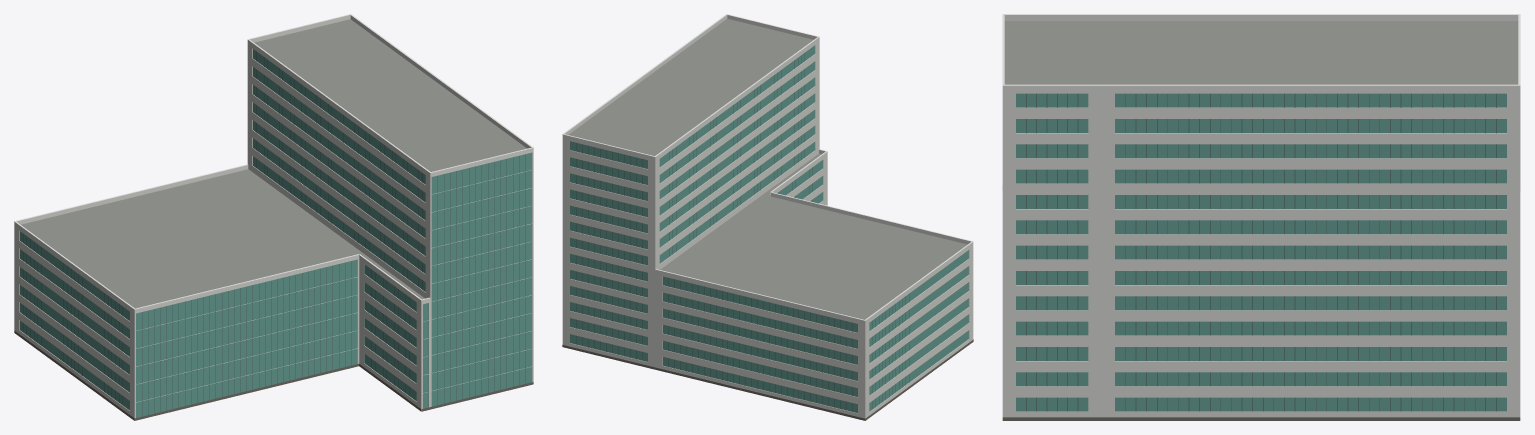
3 renders of one model, left to right at view 1: azimuth 30°, elevation 25°; view 2: azimuth 150°, elevation 25°; view 3: azimuth 270°, elevation 25°, orthographic. The views are drawn at different scales.
Visible parts, largest first — view 1: hospital__glass, hospital__roof, hospital__wall, hospital__frame, hospital__parapet, hospital__trim, hospital__base; view 2: hospital__wall, hospital__glass, hospital__roof, hospital__frame, hospital__parapet, hospital__trim, hospital__base; view 3: hospital__wall, hospital__glass, hospital__roof, hospital__frame, hospital__parapet, hospital__trim, hospital__base.
Boxes of the visible parts, x1,y1,x2,y2 form: hospital__glass: (19,49,531,417); hospital__roof: (21,19,526,308); hospital__wall: (14,44,533,420); hospital__frame: (23,51,531,416); hospital__parapet: (14,15,533,313); hospital__trim: (14,14,533,309); hospital__base: (14,330,533,420); hospital__wall: (562,41,973,418); hospital__glass: (570,45,968,412); hospital__roof: (568,18,967,319); hospital__frame: (576,53,909,411); hospital__parapet: (562,15,973,324); hospital__trim: (562,14,973,320); hospital__base: (562,339,973,420); hospital__wall: (1002,91,1520,417); hospital__glass: (1016,93,1506,411); hospital__roof: (1004,21,1518,84); hospital__frame: (1026,93,1496,411); hospital__parapet: (1002,15,1520,91); hospital__trim: (1002,14,1520,190); hospital__base: (1002,417,1520,420).
Size of the model in its own units: 82.92 by 55.62 by 77.9.
